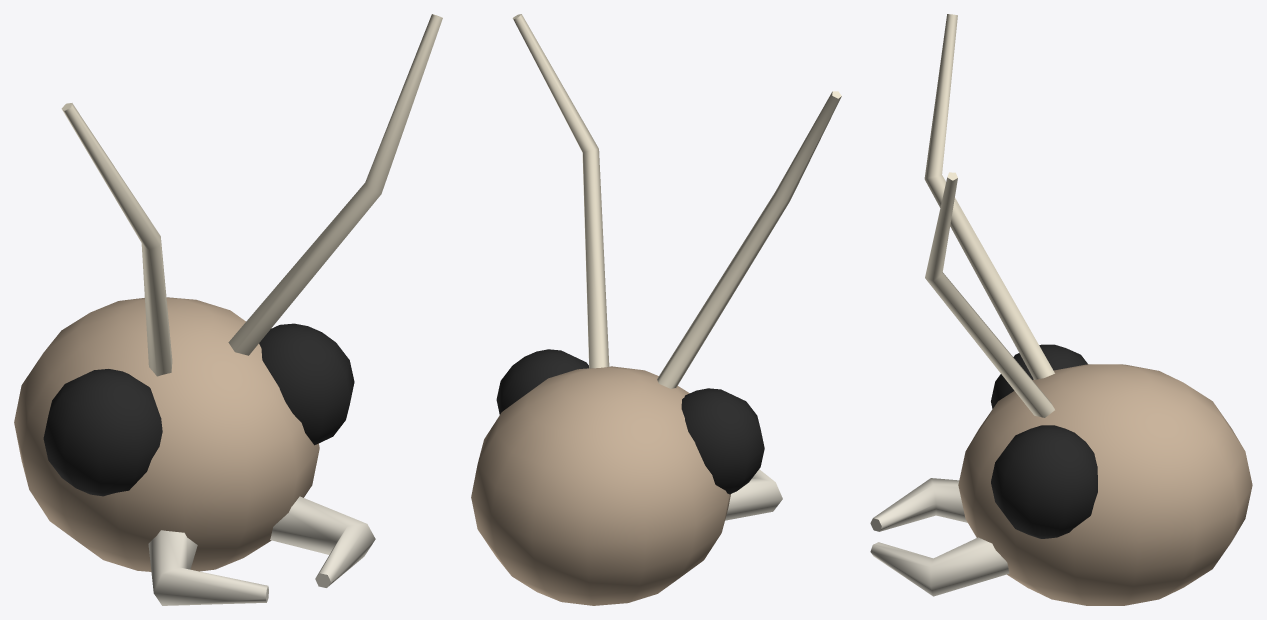
The model's file is cr_head_d.fbx.
The picture shows the model from 3 angles, left to right: view 1: azimuth 30°, elevation 25°; view 2: azimuth 150°, elevation 25°; view 3: azimuth 270°, elevation 25°; orthographic projection. The views are drawn at different scales.
Visible parts, largest first — view 1: Head; view 2: Head; view 3: Head.
Part boxes in pixels (box(x1,y1,x2,y2)): Head: box(14, 14, 442, 605); Head: box(471, 14, 841, 605); Head: box(870, 14, 1252, 605).
Size of the model in its own units: 0.4098 by 0.5788 by 0.4001.
